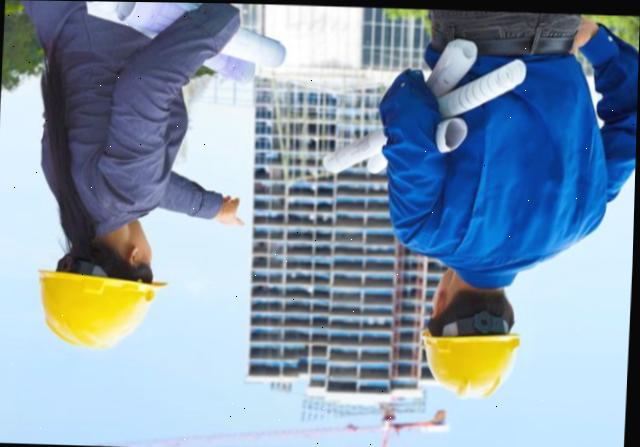helmet: (28, 264, 165, 346), (408, 325, 525, 399)
